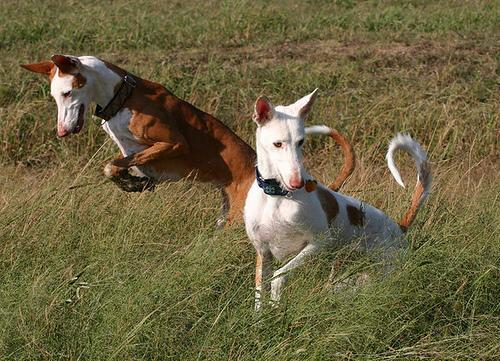Ibizan_hound: (19, 54, 356, 231), (244, 88, 432, 313)
